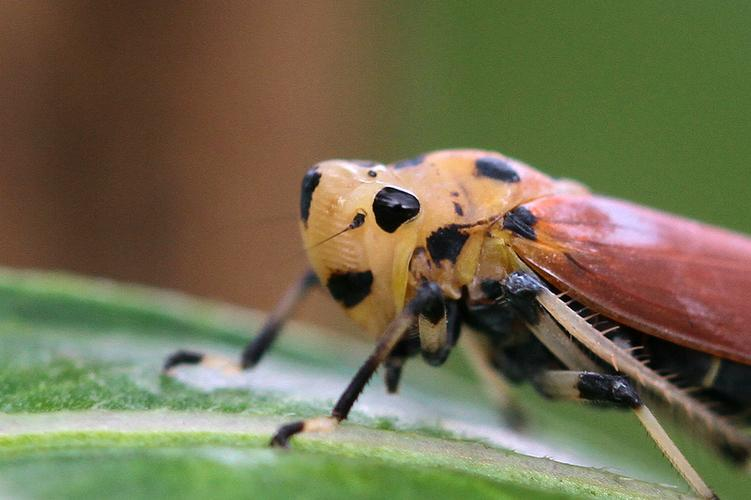Cicadellidae: (160, 149, 751, 500)
